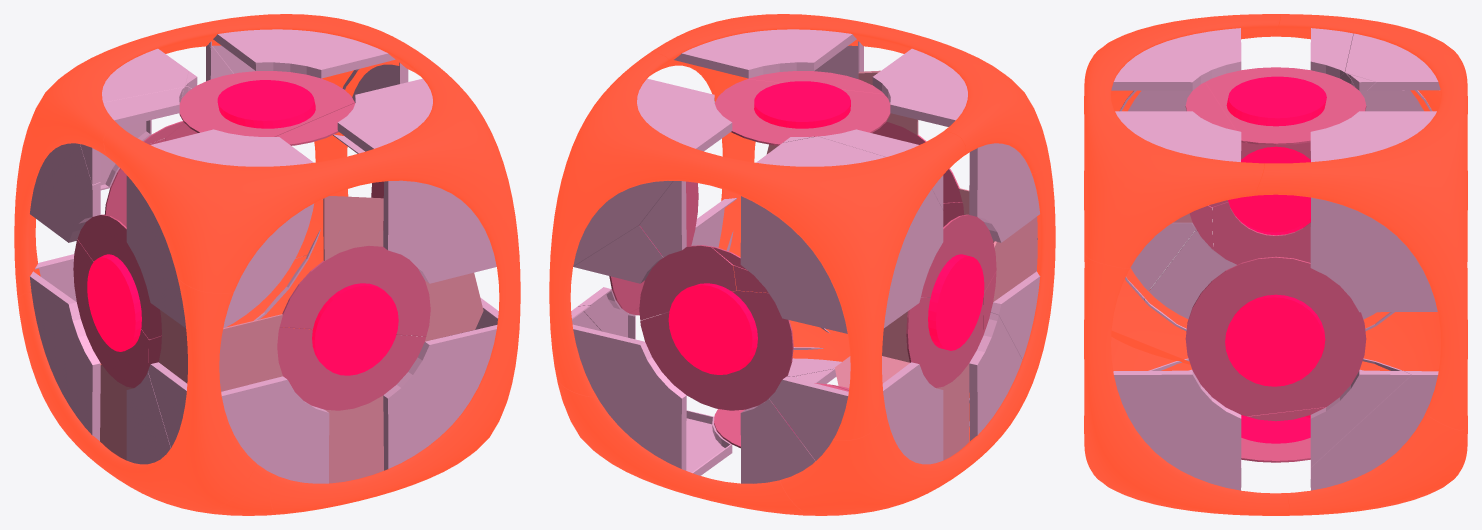
File: BrokenBoxOne.fbx
3 views of the same model, side by side, from view 1: azimuth 30°, elevation 25°; view 2: azimuth 150°, elevation 25°; view 3: azimuth 270°, elevation 25° (orthographic).
Visible parts, largest first — view 1: a1_cell.001, a1_cell.002, a1_cell.004, 円.003, a3_cell.004, a1_cell, a3_cell.006, a3_cell.015, a3_cell.003, a3_cell.005, a3_cell.014, a3_cell.010 (+18 smaller); view 2: a1_cell.002, a1_cell.004, 円.003, a3_cell.003, a1_cell.001, a3_cell.002, a3_cell.005, a3_cell.010, a2_cell.005, a3_cell.014, a1_cell.003, a3_cell.004 (+21 smaller); view 3: a1_cell.002, a1_cell.001, 円.003, a2_cell.001, a1_cell, a3_cell.014, a3_cell.015, a1_cell.004, a1_cell.003, a3_cell.005, a3_cell.002, a2_cell.003 (+13 smaller).
Part boxes in pixels (x1,y1,x2,y2): a1_cell.001: (103, 61, 514, 293); a1_cell.002: (14, 14, 432, 297); a1_cell.004: (17, 278, 256, 511); 円.003: (87, 80, 398, 375); a3_cell.004: (337, 78, 496, 283); a1_cell: (270, 210, 520, 514); a3_cell.006: (148, 362, 329, 483); a3_cell.015: (383, 297, 498, 470); a3_cell.003: (30, 48, 191, 242); a3_cell.005: (126, 129, 313, 327); a3_cell.014: (209, 29, 408, 153); a3_cell.010: (29, 254, 100, 440); a1_cell.002: (549, 52, 965, 440); a1_cell.004: (781, 160, 1055, 515); 円.003: (640, 81, 984, 439); a3_cell.003: (740, 136, 943, 333); a1_cell.001: (650, 14, 1049, 173); a3_cell.002: (571, 305, 732, 475); a3_cell.005: (872, 48, 1039, 242); a3_cell.010: (769, 362, 943, 464); a2_cell.005: (640, 290, 793, 410); a3_cell.014: (573, 78, 732, 266); a1_cell.003: (556, 378, 816, 515); a3_cell.004: (674, 29, 863, 78); a1_cell.002: (1254, 14, 1467, 429); a1_cell.001: (1084, 14, 1280, 268); 円.003: (1225, 76, 1326, 443); a2_cell.001: (1185, 256, 1366, 416); a1_cell: (1084, 253, 1288, 515); a3_cell.014: (1310, 111, 1437, 312); a3_cell.015: (1113, 370, 1241, 490); a1_cell.004: (1084, 108, 1440, 371); a1_cell.003: (1285, 369, 1467, 515); a3_cell.005: (1111, 28, 1241, 111); a3_cell.002: (1310, 371, 1438, 490); a2_cell.003: (1206, 67, 1366, 145).
Size of the model in its own units: 203 by 203 by 203.
